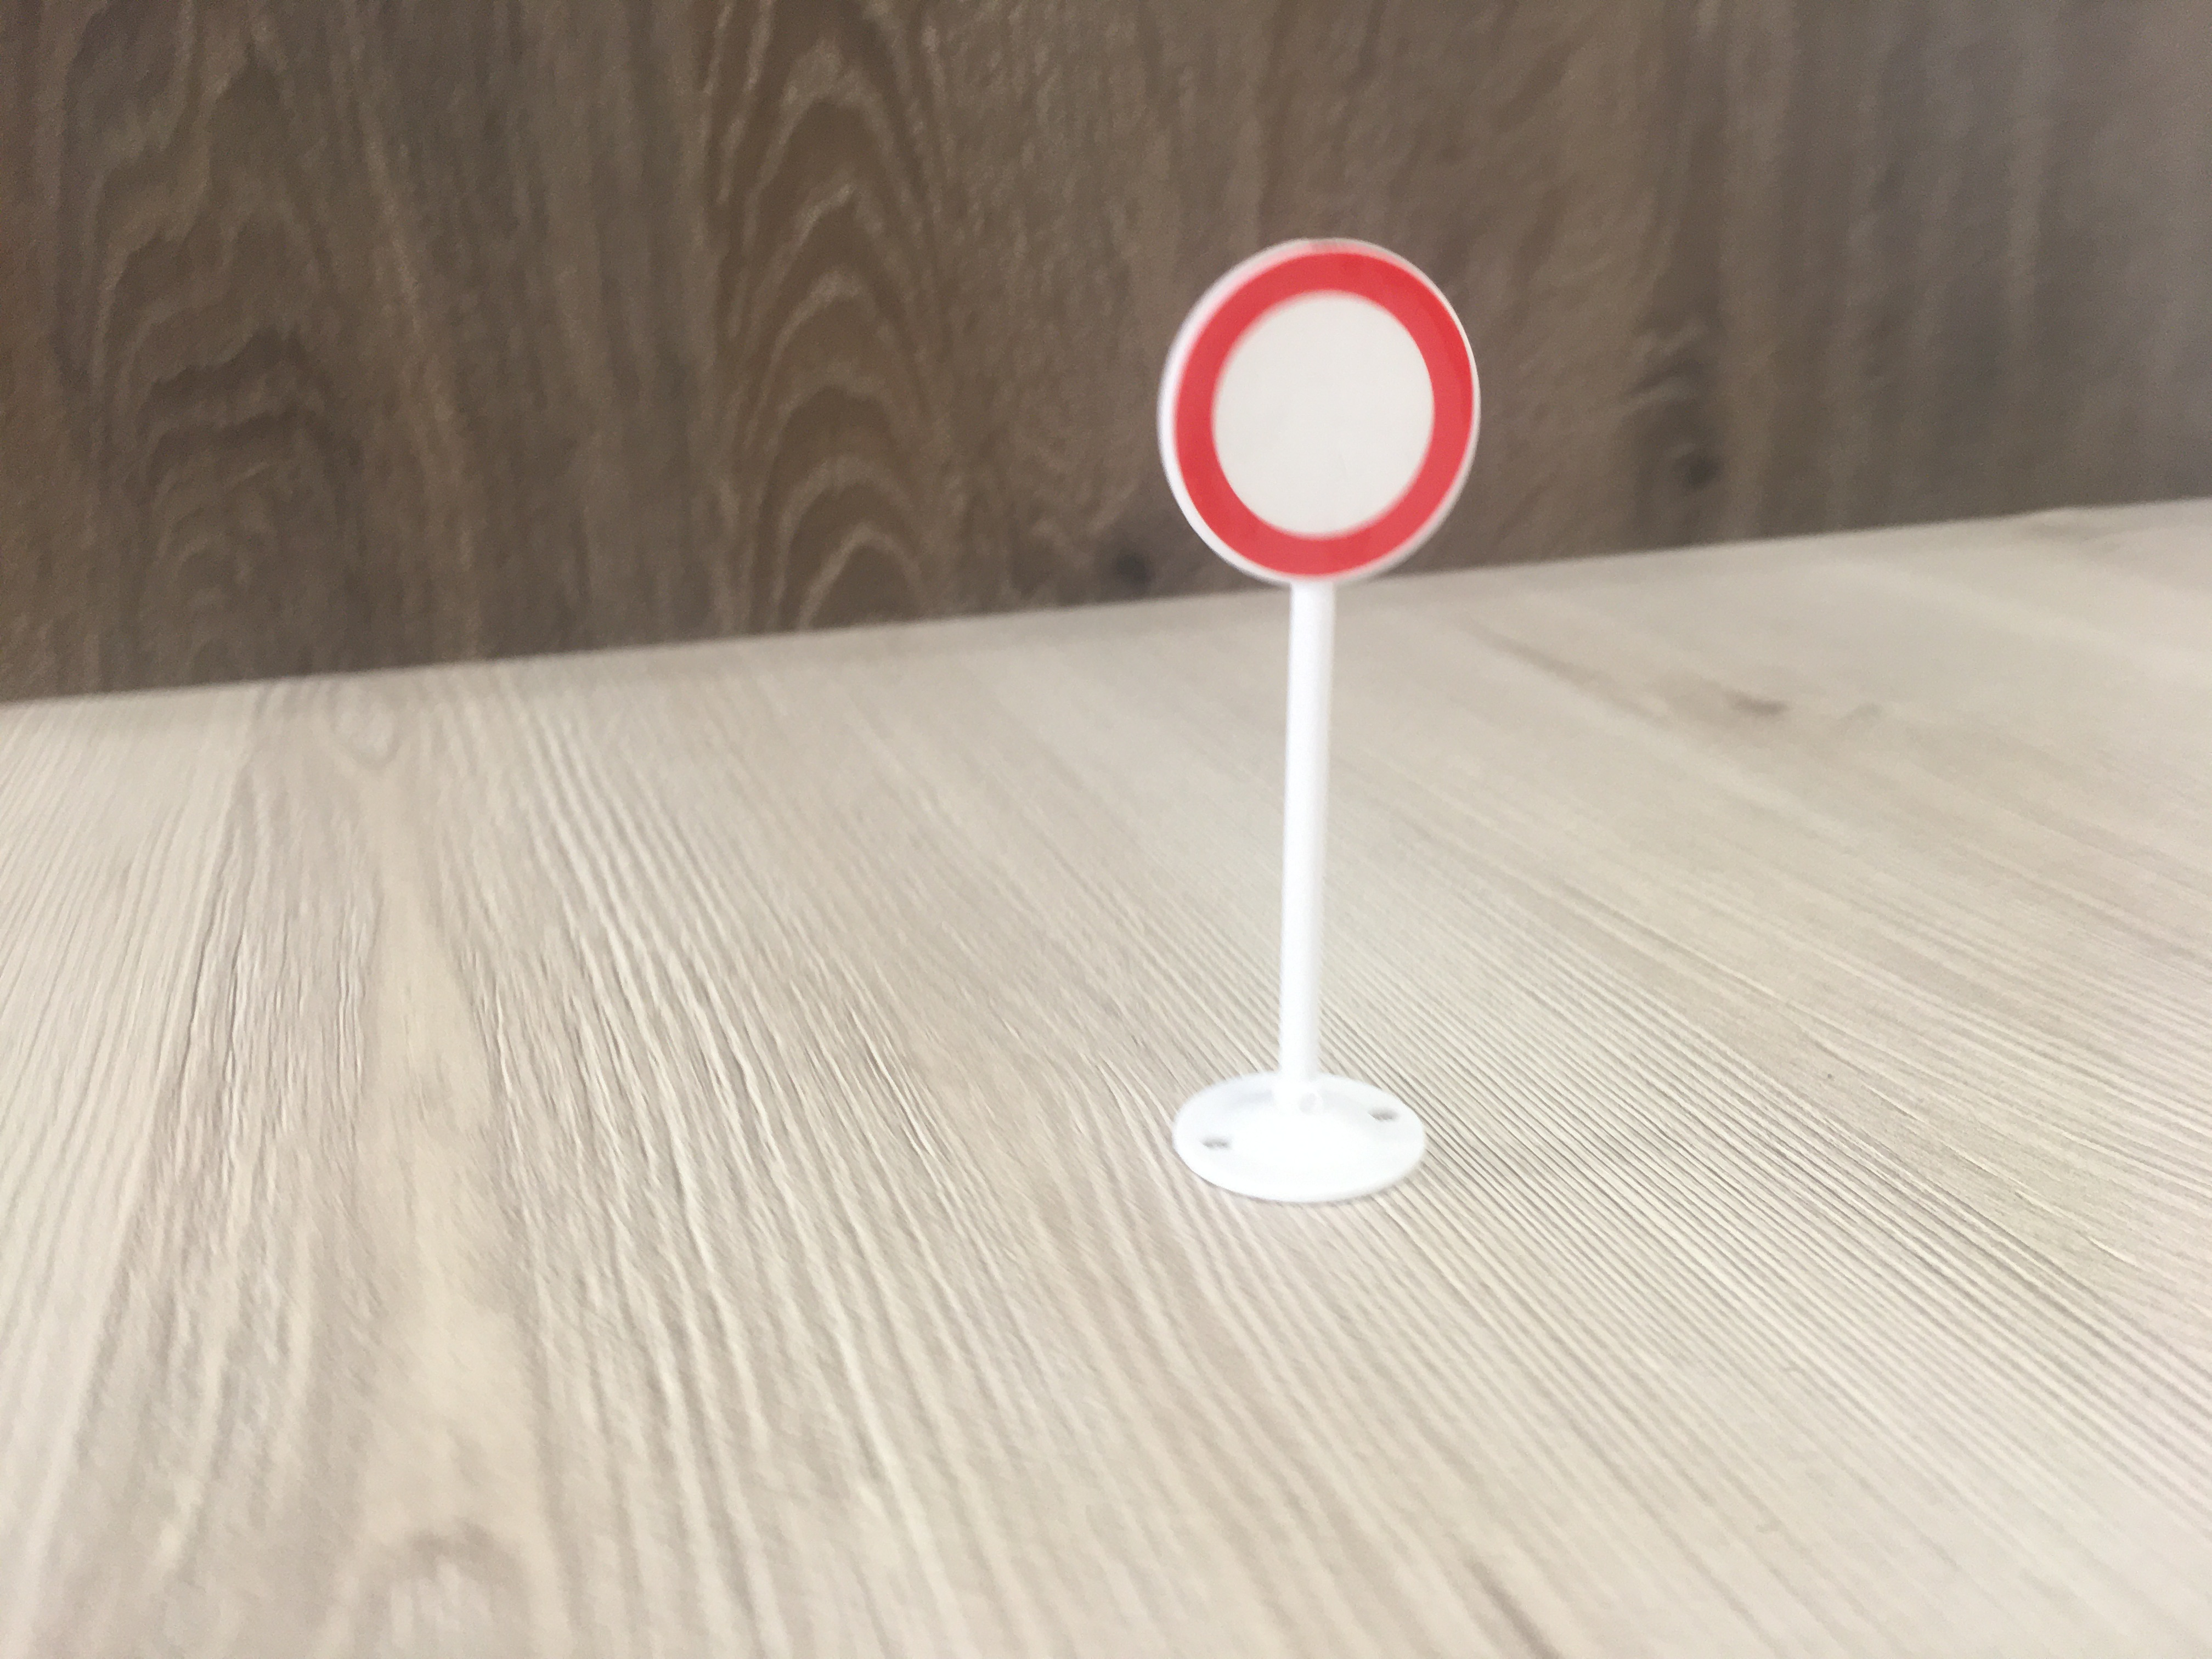noDrive: (1155, 242, 1480, 591)
